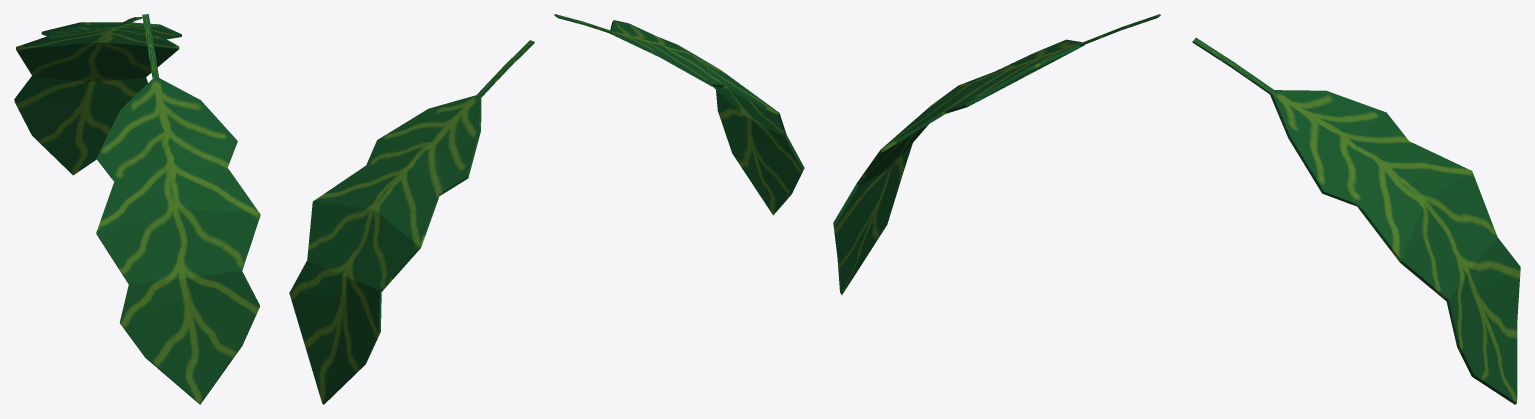
Rendered from PruebaHoja2.fbx.
3 renders of one model, left to right at view 1: azimuth 30°, elevation 25°; view 2: azimuth 150°, elevation 25°; view 3: azimuth 270°, elevation 25°, orthographic. The views are drawn at different scales.
Visible parts, largest first — view 1: HojaCafe.003, HojaCafe.002; view 2: HojaCafe.002, HojaCafe.003; view 3: HojaCafe.002, HojaCafe.003.
Part boxes in pixels (<box>): HojaCafe.003: <box>96,14,260,404</box>; HojaCafe.002: <box>14,17,181,175</box>; HojaCafe.002: <box>289,40,534,404</box>; HojaCafe.003: <box>554,14,804,215</box>; HojaCafe.002: <box>1192,37,1520,404</box>; HojaCafe.003: <box>833,14,1160,294</box>.
Bounding box in the file's own units: 31.63 × 32.47 × 58.64.
Materials: 1 (1 with a texture image).
